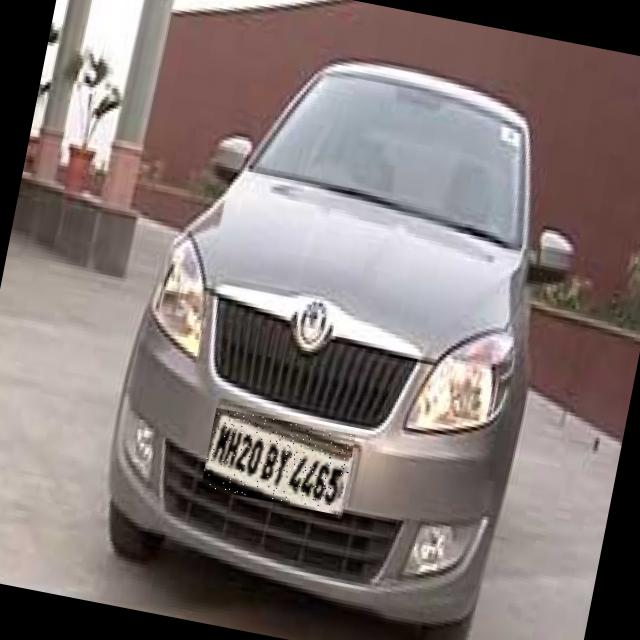Plate: (202, 409, 357, 517)
